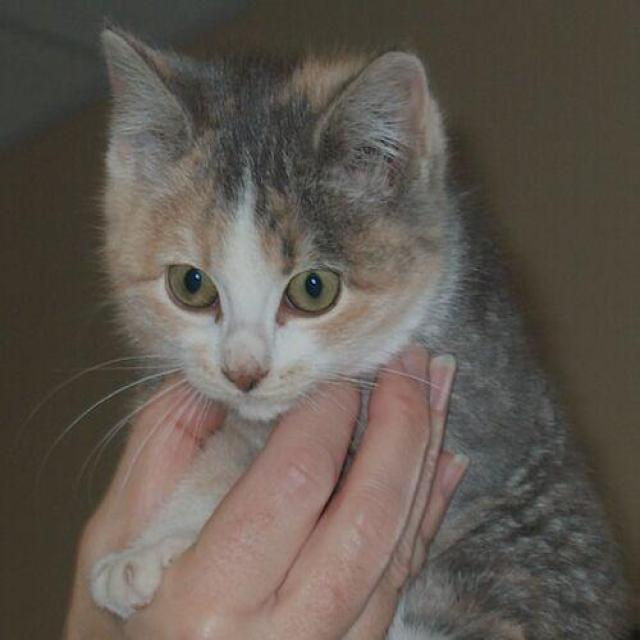cat: (87, 10, 640, 640)
